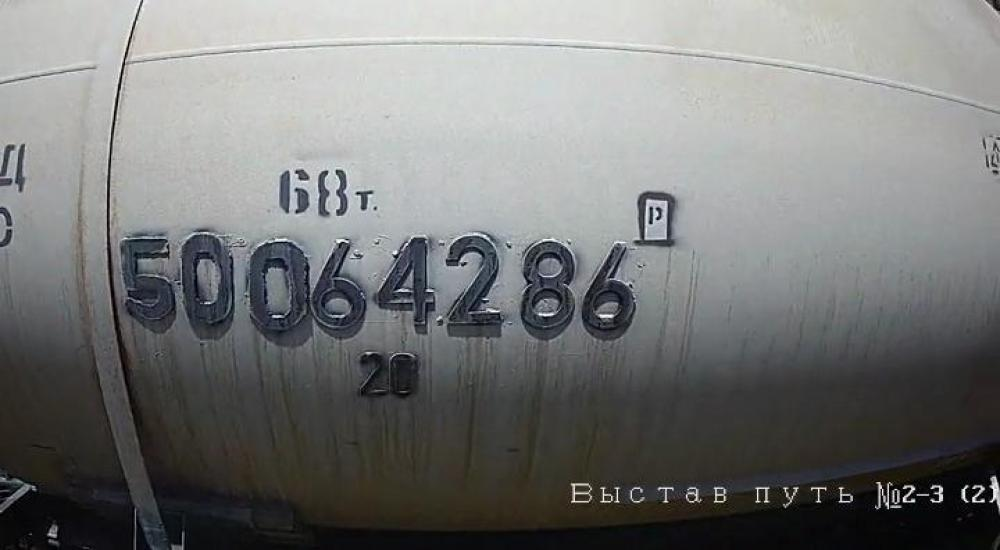Wagon-number: (111, 224, 648, 354)
